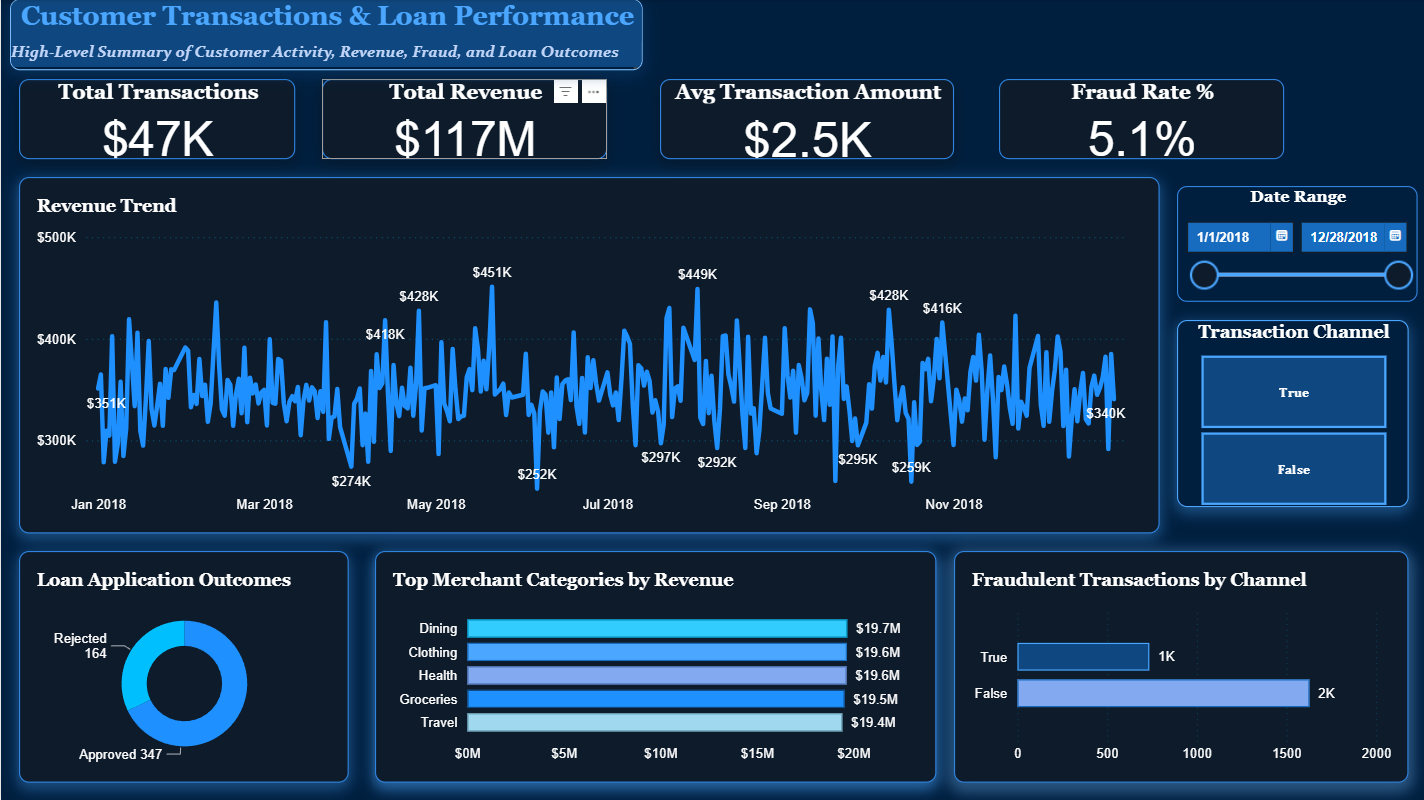

Layout of this report page (visuals, bound fields, positions):
{"tool":"powerbi","page":{"name":"Executive Overview","canvas":[1280,720],"ordinal":0},"visuals":[{"type":"card","title":"Total Transactions","fields":{"Values":["transactions.Total Transactions"]},"box":[16,72,248,72],"z":0},{"type":"card","title":"Total Revenue","fields":{"Values":["transactions.Total Revenue"]},"box":[288,72,256,72],"z":1000},{"type":"card","title":"Avg Transaction Amount","fields":{"Values":["transactions.Avg Transaction Amount"]},"box":[592,72,264,72],"z":2000},{"type":"card","title":"Fraud Rate %","fields":{"Values":["transactions.Fraud Rate %"]},"box":[896,72,256,72],"z":3000},{"type":"lineChart","title":"Revenue Trend","fields":{"Y":["transactions.Total Revenue"],"Category":["Calendar.Date"]},"box":[16,160,1024,320],"z":4000},{"type":"donutChart","title":"Loan Application Outcomes","fields":{"Category":["loan_applications.ApplicationStatus"],"Y":["loan_applications.Total Loan Applications"]},"box":[16,496,296,208],"z":5000},{"type":"clusteredBarChart","title":"Top Merchant Categories by Revenue","fields":{"Y":["transactions.Total Revenue"],"Category":["transactions.MerchantCategory"]},"box":[336,496,504,208],"z":6000},{"type":"slicer","title":"Date Range","fields":{"Values":["Calendar.Date"]},"box":[1056,168,216,104],"z":7000},{"type":"textbox","title":"Customer Transactions & Loan Performance","box":[8,0,568,64],"z":8000},{"type":"clusteredBarChart","title":"Fraudulent Transactions by Channel","fields":{"Category":["transactions.IsOnline"],"Y":["transactions.Fraudulent Transactions"]},"box":[856,496,408,208],"z":9000},{"type":"slicer","title":"Transaction Channel","fields":{"Values":["transactions.IsOnline"]},"box":[1056,288,208,168],"z":10000}]}

Visuals, with their boxes in screenshot pixels (x1, y1, x2, y2), scaled from the page's 1280x720 canvas onto the 1424x800 screenshot:
"Total Transactions" card: x1=18 y1=80 x2=294 y2=160
"Total Revenue" card: x1=320 y1=80 x2=605 y2=160
"Avg Transaction Amount" card: x1=659 y1=80 x2=952 y2=160
"Fraud Rate %" card: x1=997 y1=80 x2=1282 y2=160
"Revenue Trend" lineChart: x1=18 y1=178 x2=1157 y2=533
"Loan Application Outcomes" donutChart: x1=18 y1=551 x2=347 y2=782
"Top Merchant Categories by Revenue" clusteredBarChart: x1=374 y1=551 x2=934 y2=782
"Date Range" slicer: x1=1175 y1=187 x2=1415 y2=302
"Customer Transactions & Loan Performance" textbox: x1=9 y1=0 x2=641 y2=71
"Fraudulent Transactions by Channel" clusteredBarChart: x1=952 y1=551 x2=1406 y2=782
"Transaction Channel" slicer: x1=1175 y1=320 x2=1406 y2=507
